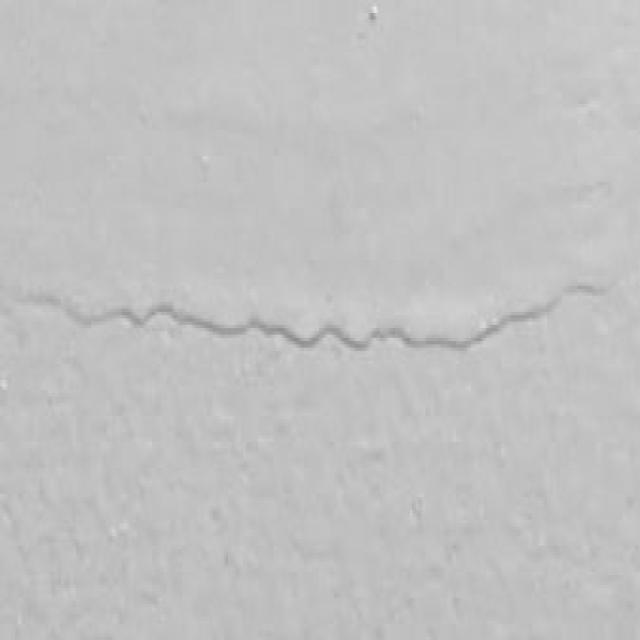paint drips: (18, 154, 628, 447)
